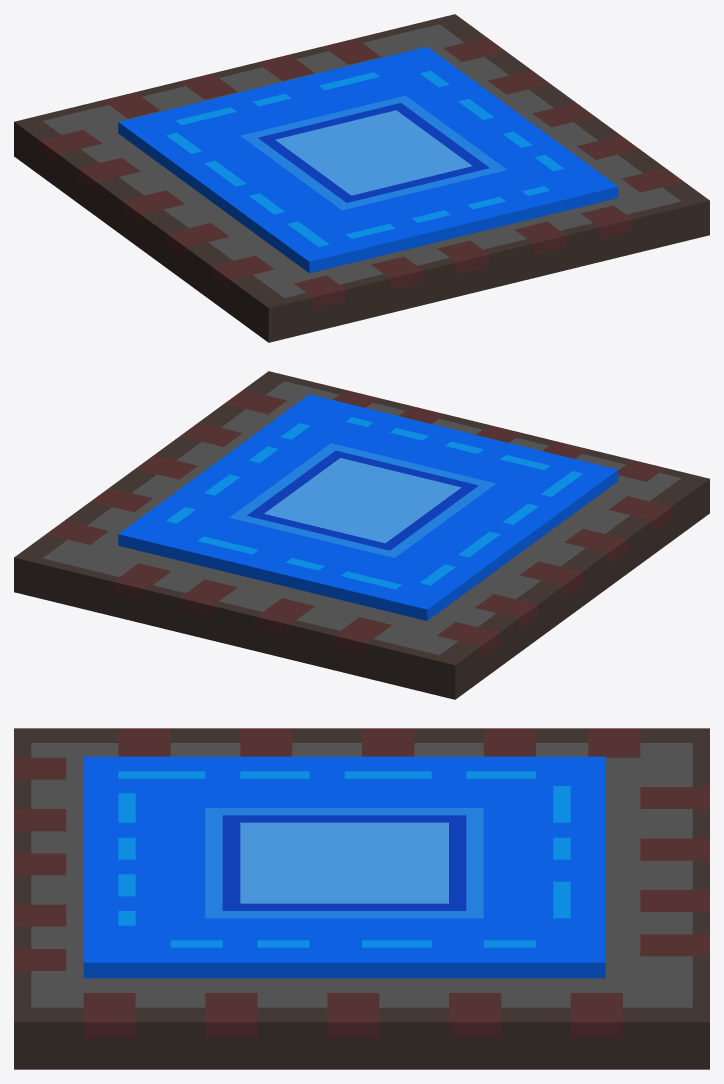
Rendered from 升降梯.obj.
3 views of the same model, one above another, from view 1: azimuth 30°, elevation 25°; view 2: azimuth 150°, elevation 25°; view 3: azimuth 270°, elevation 25° (orthographic). The views are drawn at different scales.
Bounding box in the file's own units: 40 × 4 × 40.
